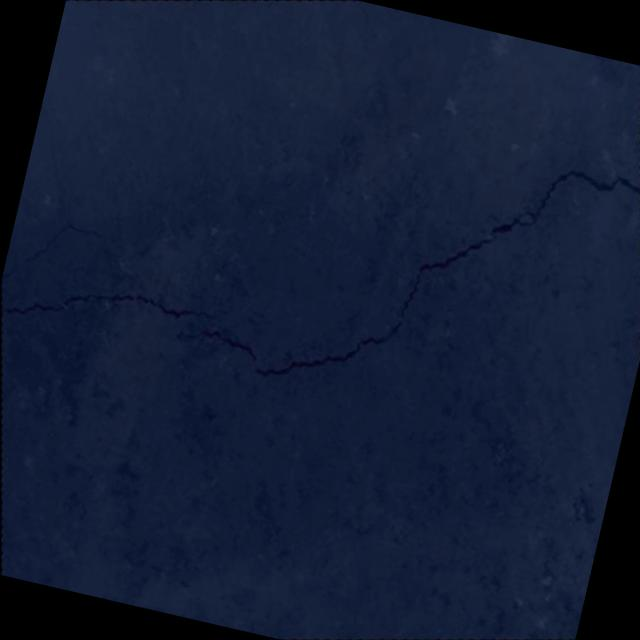crack: (133, 68, 640, 478), (0, 245, 222, 368), (0, 204, 111, 303)
